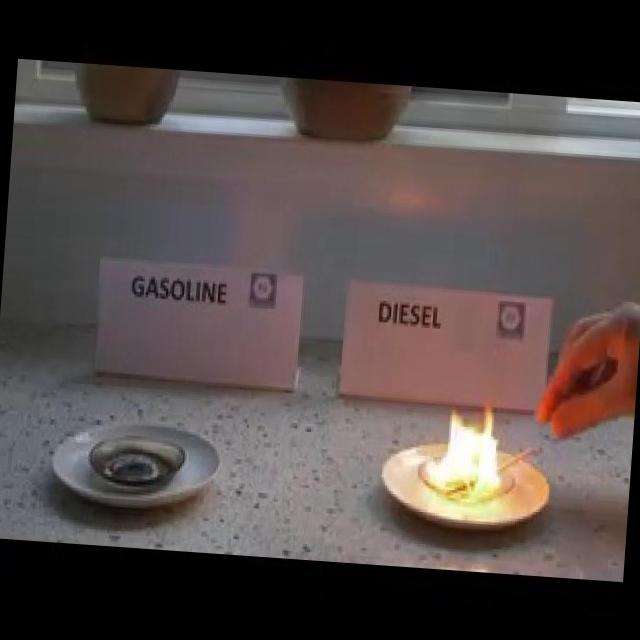Fire: (421, 388, 514, 502)
